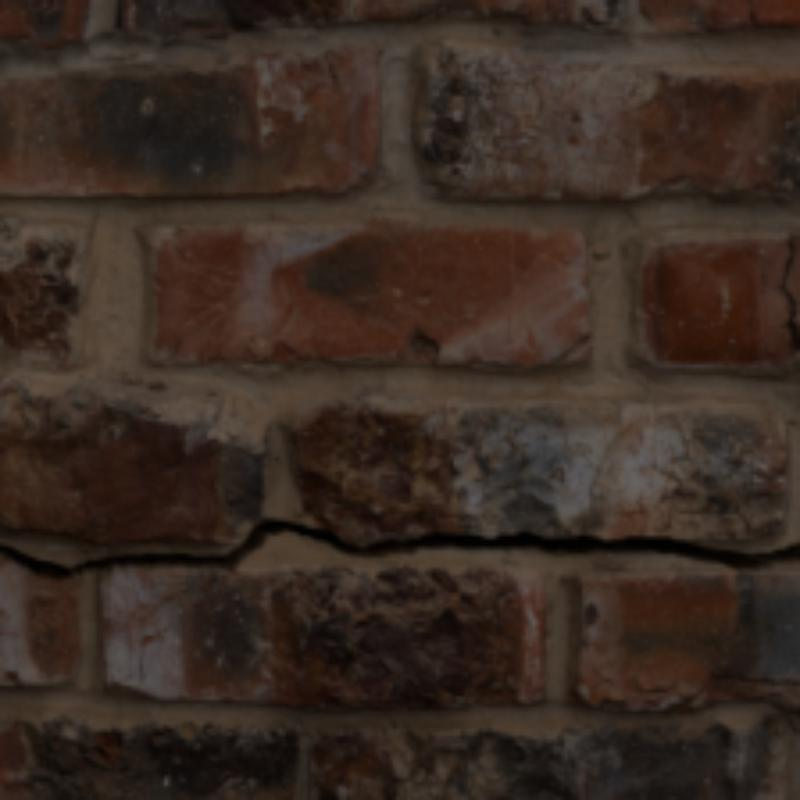pothole: (0, 521, 796, 579), (782, 239, 796, 350)
